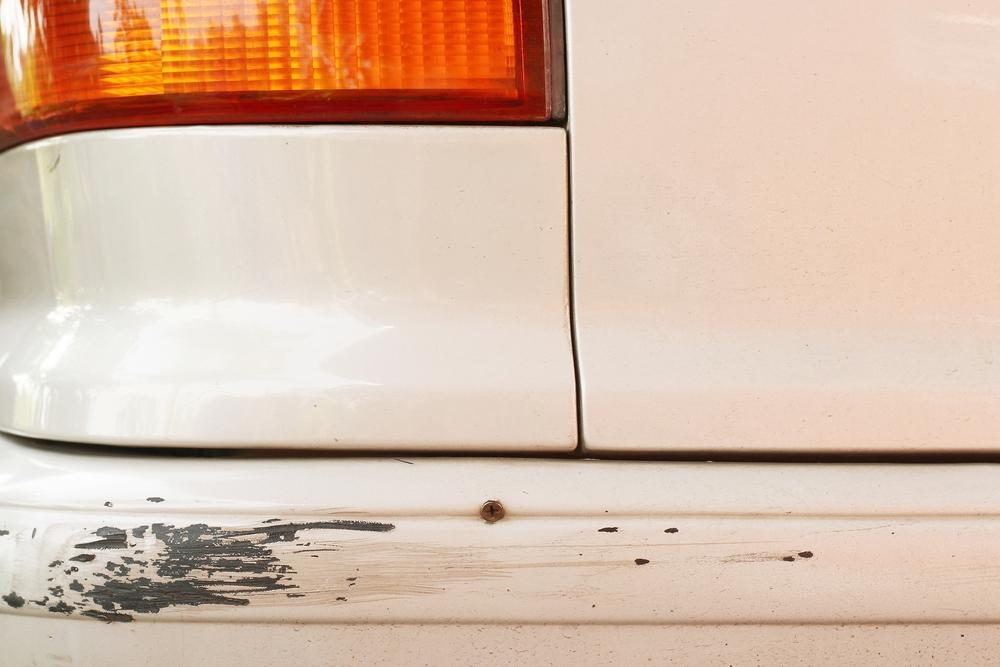scratch: (0, 490, 833, 626)
